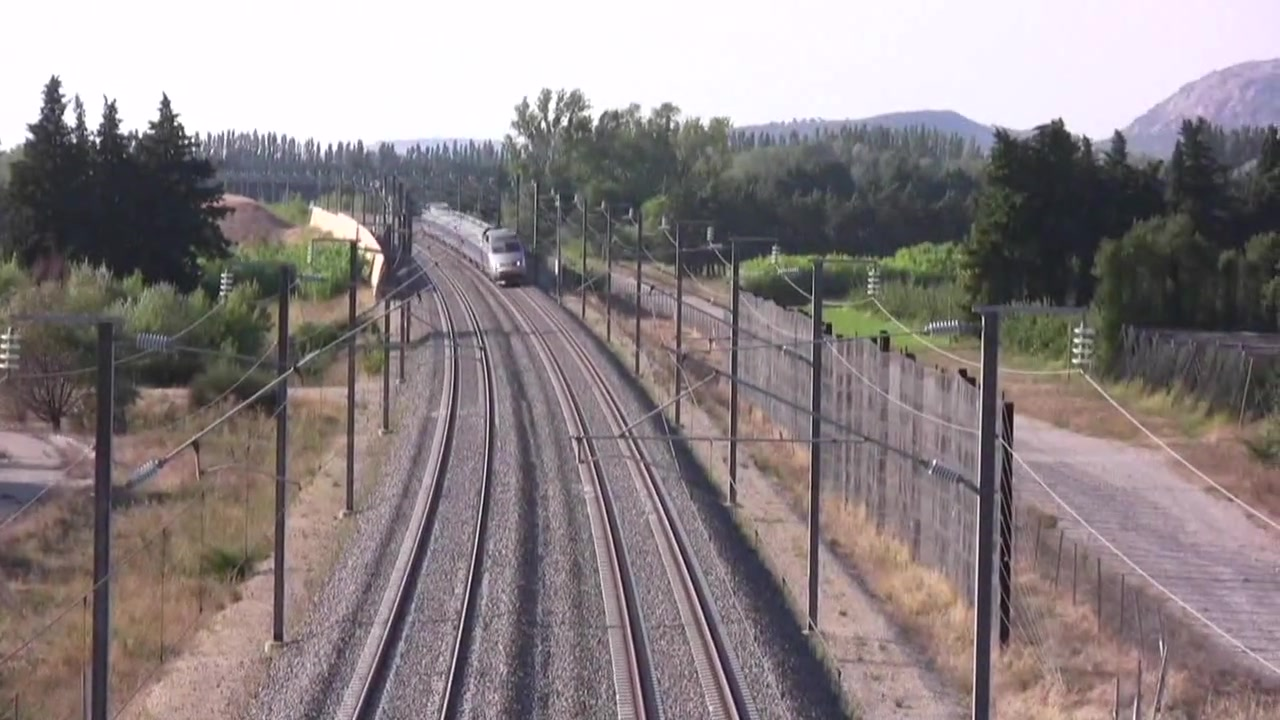train: (414, 198, 530, 288)
